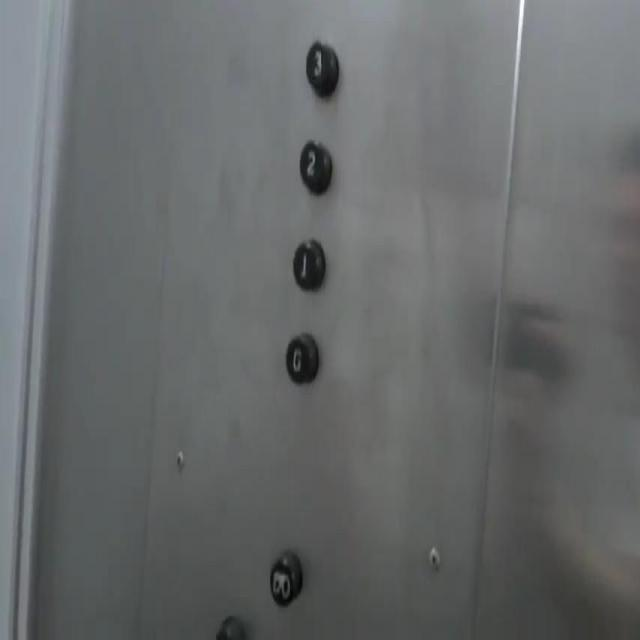1: (291, 233, 327, 292)
2: (296, 134, 332, 198)
3: (302, 36, 341, 104)
G: (284, 330, 318, 390)
unknown: (268, 550, 302, 606)
